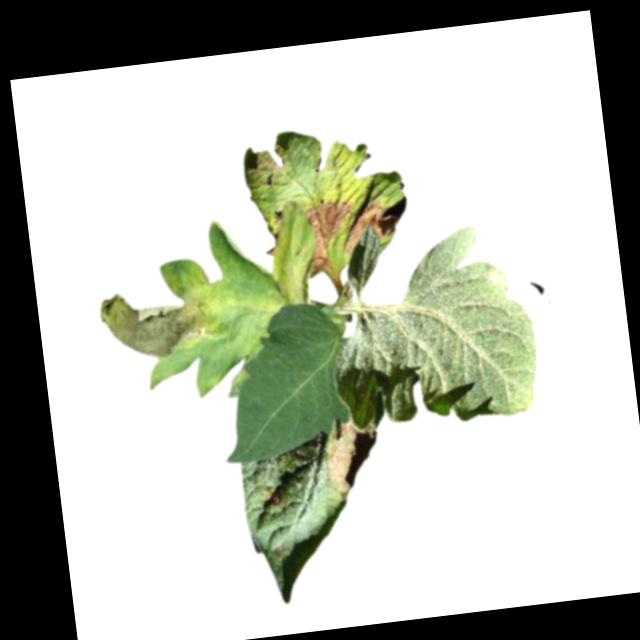Late_blight: (97, 280, 220, 367), (261, 197, 359, 283), (322, 420, 386, 502), (336, 199, 398, 255), (265, 486, 288, 509)
healthy: (318, 219, 543, 436), (208, 295, 358, 468)
